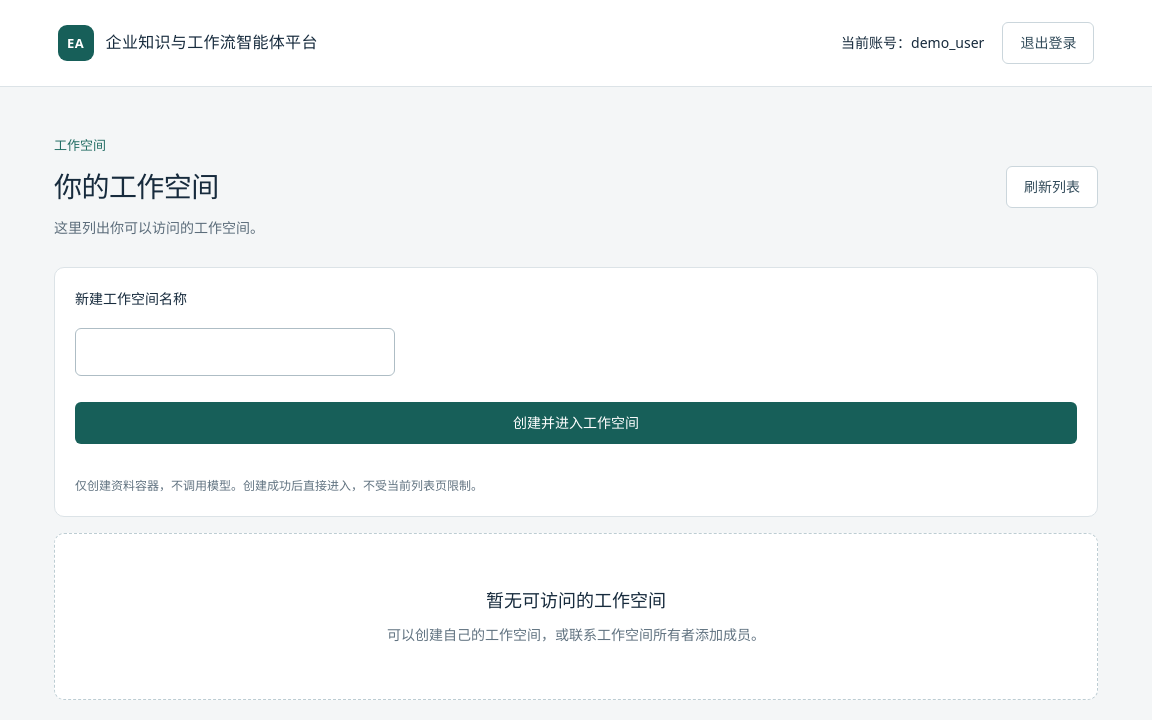
Test: self-service workspace and knowledge-base setup › creates both containers from empty lists and enters the new library without depending on page membership
Type " 新空间 " into the field labelled "新建工作空间名称" at (235, 352), box [75,328,395,376]
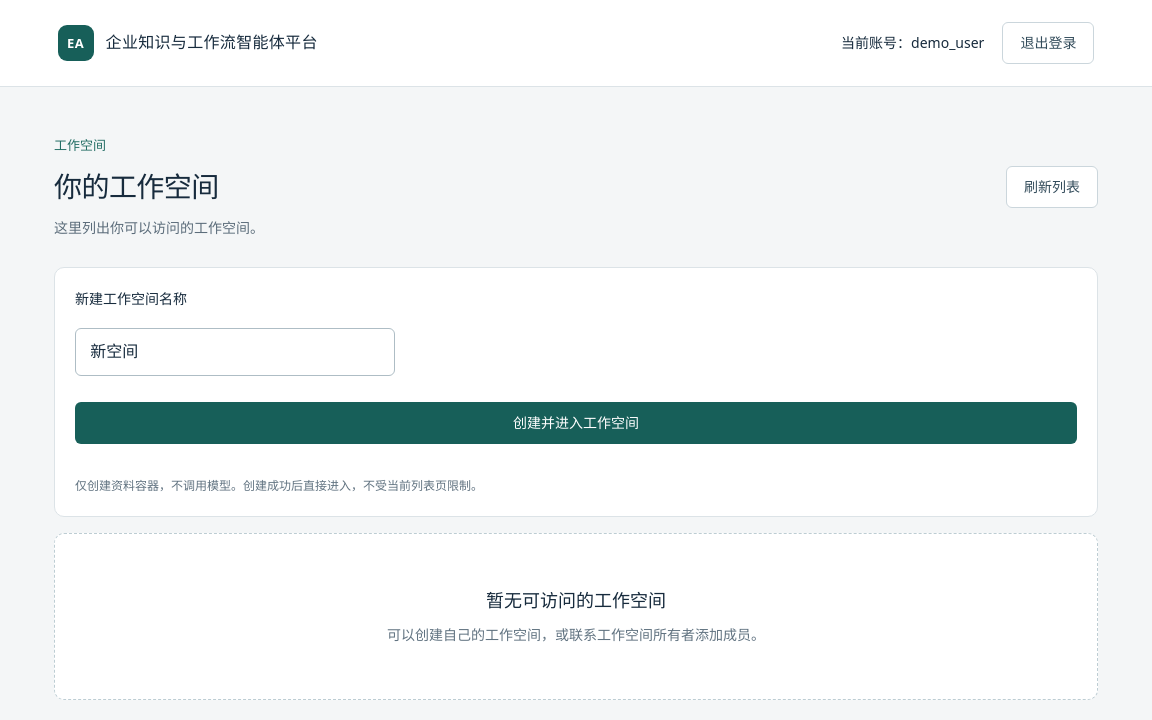
Click the button "创建并进入工作空间" at (576, 423), box [75,402,1077,444]
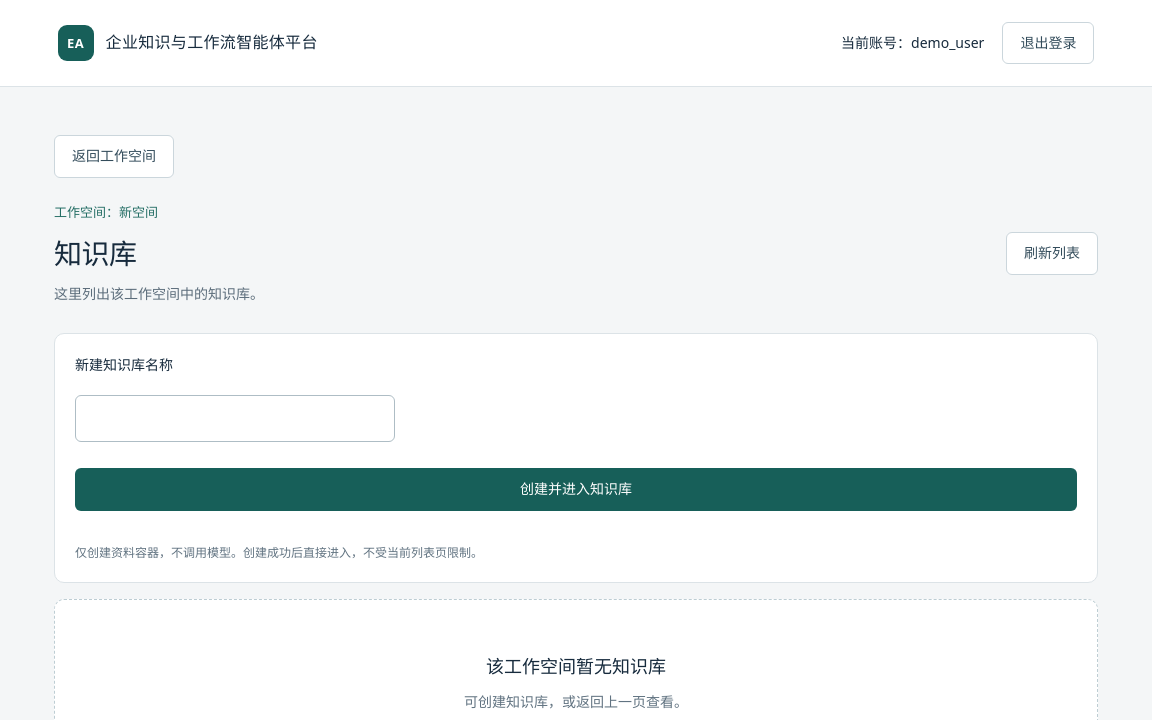
Now the heading "知识库" is shown, box [54,234,136,272]
Type "制度库" into the field labelled "新建知识库名称" at (235, 419), box [75,395,395,442]
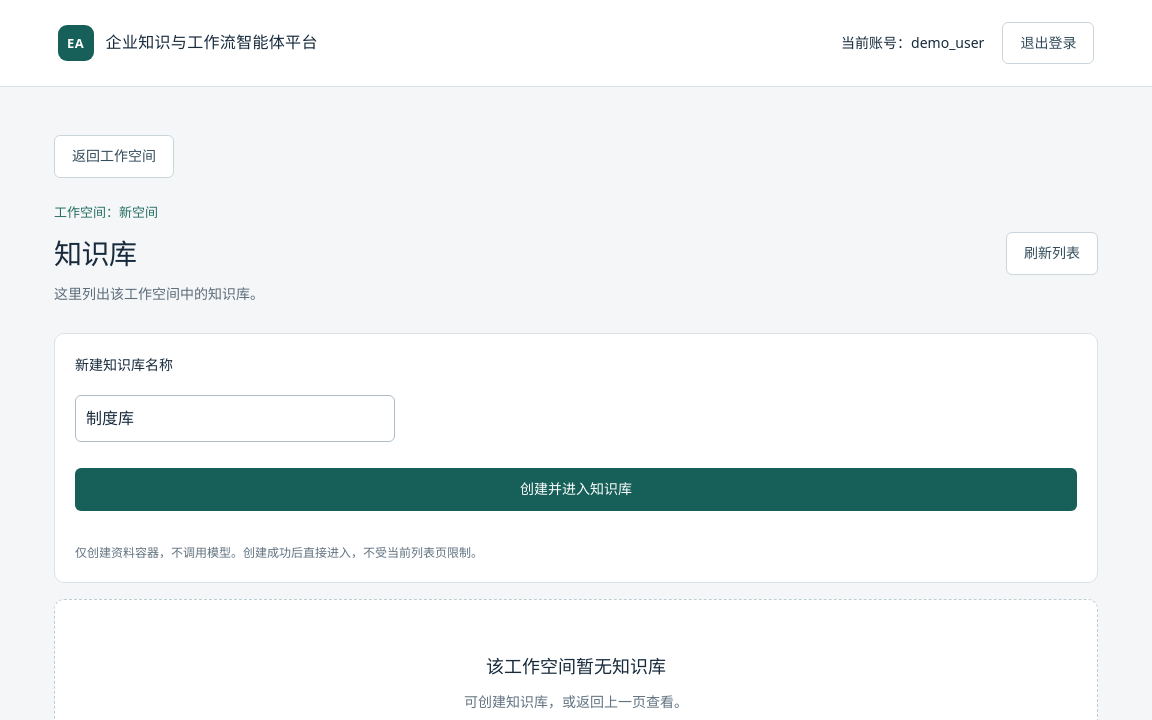
Click the button "创建并进入知识库" at (576, 490), box [75,468,1077,511]
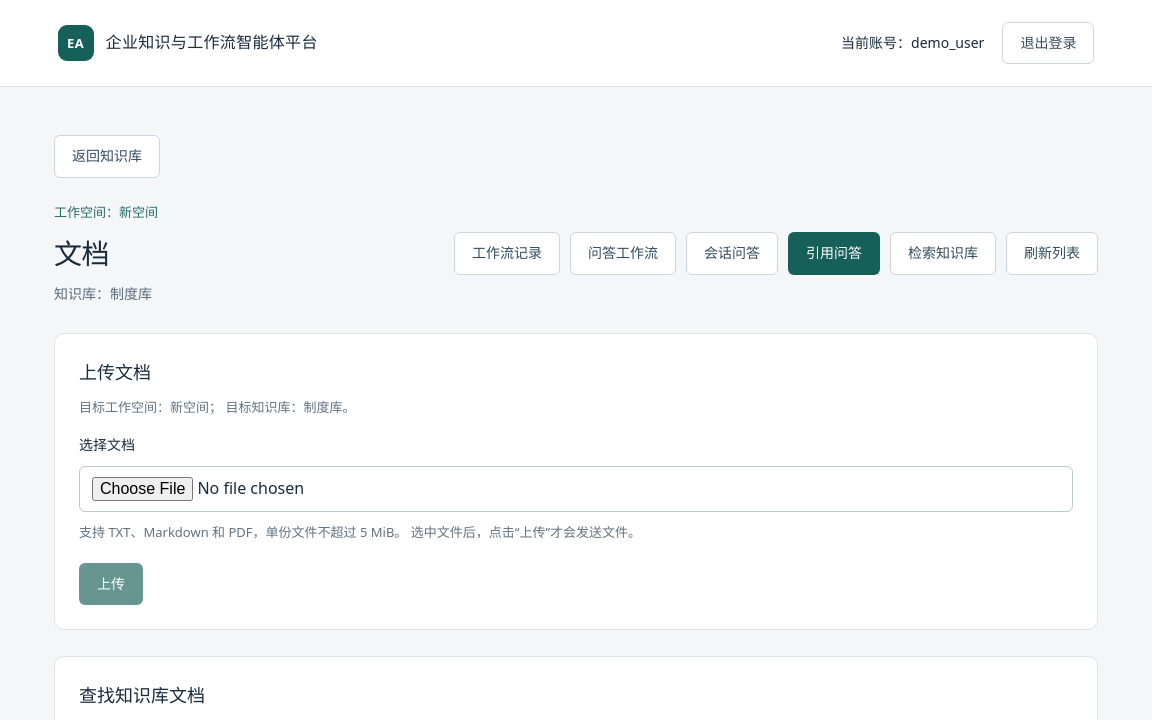
Now the heading "文档" is shown, box [54,234,109,272]
Now the button "引用问答" is shown, box [788,232,880,275]
